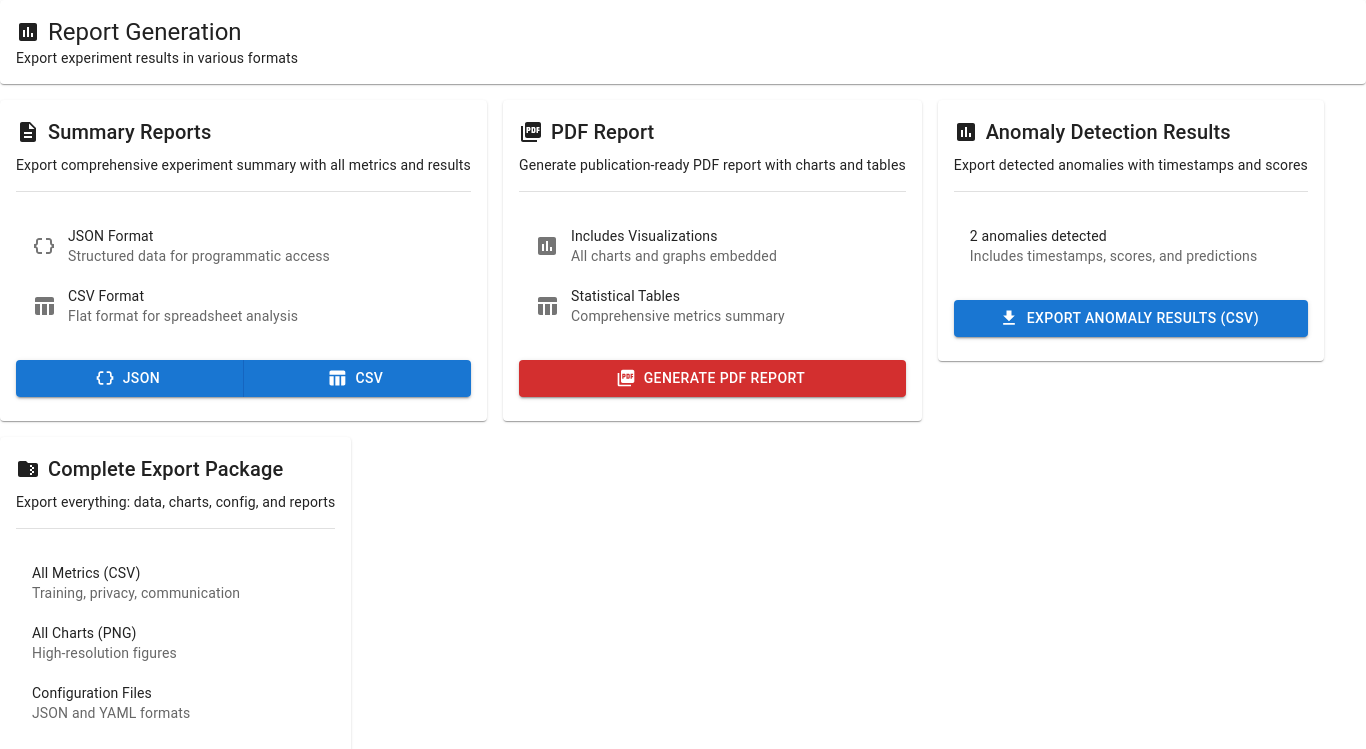
it: ReportGeneration › Summary Report Export › should export summary as JSON
What coordinates should you click on to do the following:
click the button "JSON"
I would click on:
 (130, 378)
Its box is x1=16 y1=360 x2=244 y2=397.
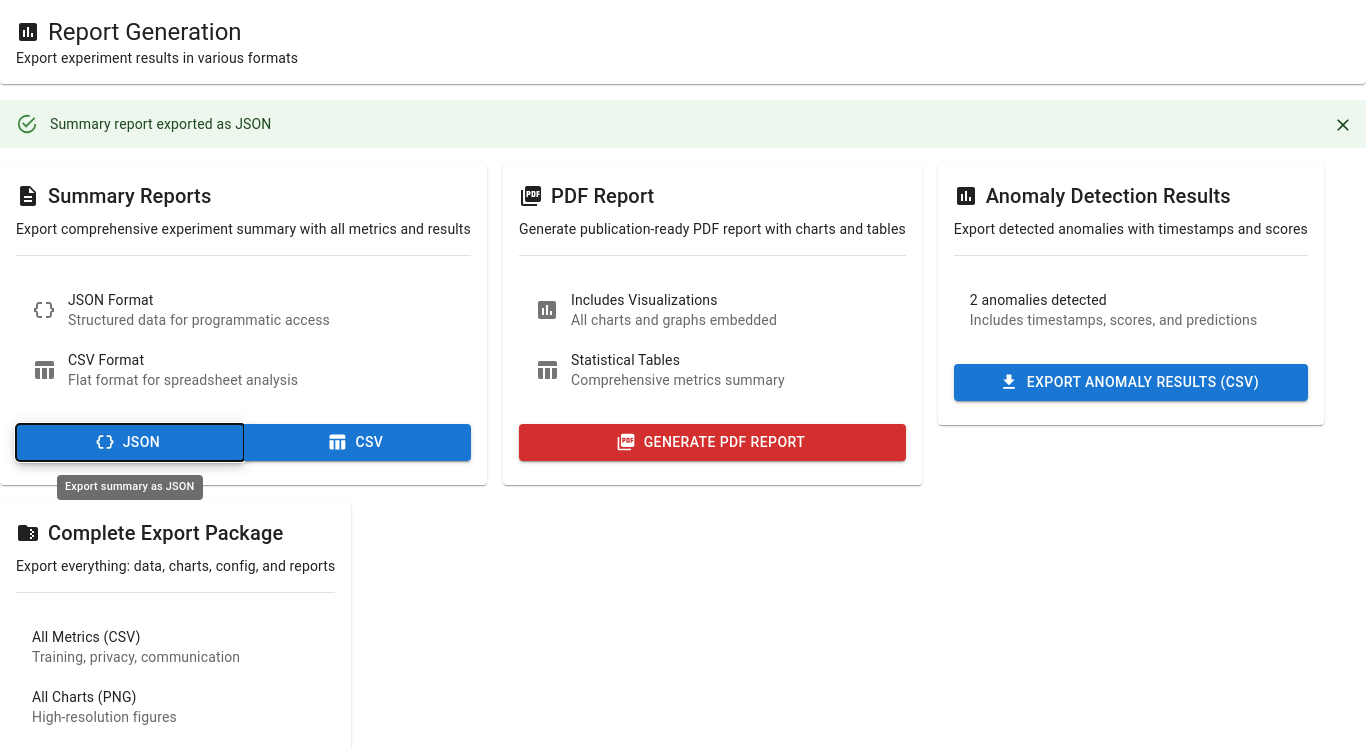
Check: the text "Summary report exported as JSON" is shown, box x1=50 y1=116 x2=272 y2=132
